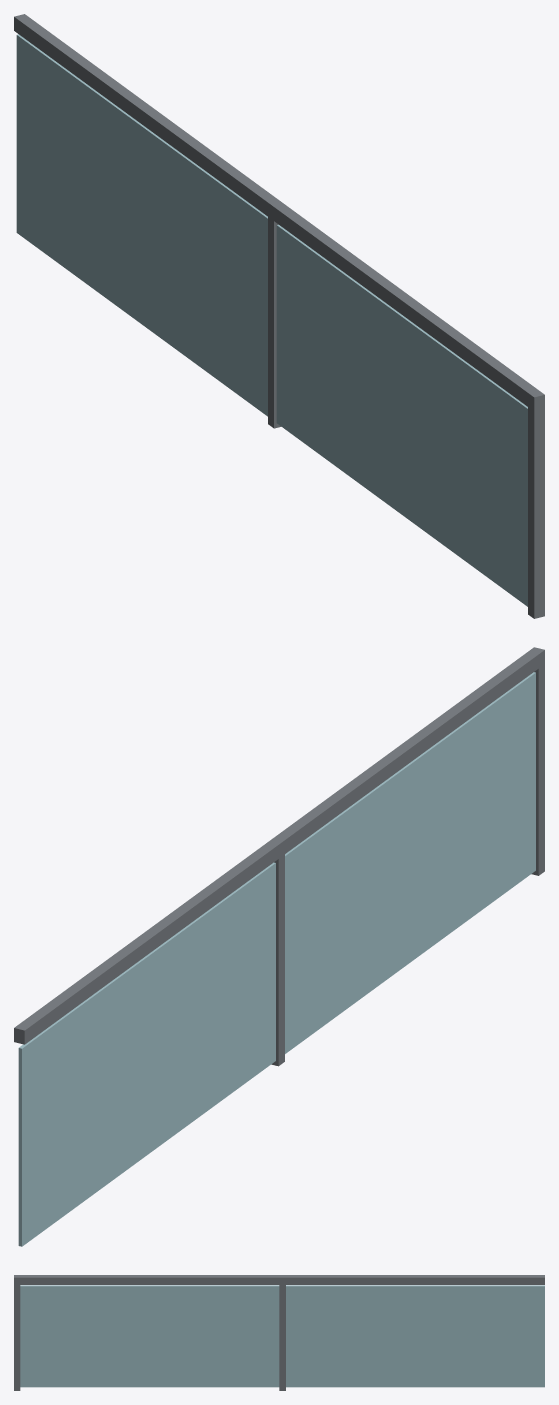
File: PSDFull.glb
The picture shows the model from 3 angles, top to bottom: view 1: azimuth 30°, elevation 25°; view 2: azimuth 150°, elevation 25°; view 3: azimuth 270°, elevation 25°; orthographic projection. The views are drawn at different scales.
Visible parts, largest first — view 1: PSDFull; view 2: PSDFull; view 3: PSDFull.
Part boxes in pixels (bbox=[...]): PSDFull: bbox=[14, 14, 544, 618]; PSDFull: bbox=[14, 647, 544, 1246]; PSDFull: bbox=[14, 1275, 544, 1390].
Bounding box in the file's own units: 0.12 × 2.35 × 10.
